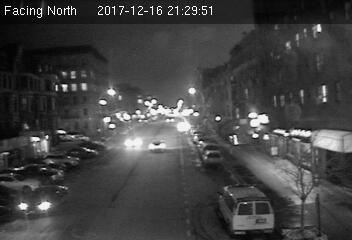car: (16, 184, 71, 217), (202, 150, 223, 166), (148, 139, 168, 153)
police: (218, 179, 276, 234)
